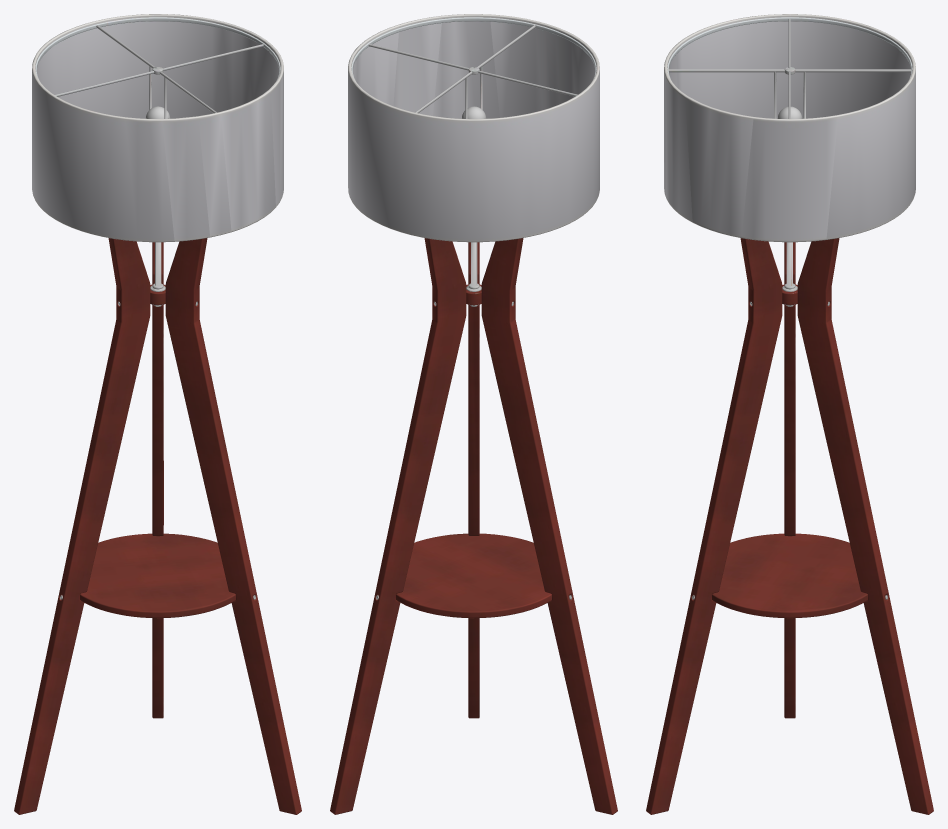
3 views of the same model, side by side, from view 1: azimuth 30°, elevation 25°; view 2: azimuth 150°, elevation 25°; view 3: azimuth 270°, elevation 25° (orthographic).
Visible parts, largest first — view 1: RootNode; view 2: RootNode; view 3: RootNode.
Part boxes in pixels (<box>): RootNode: <box>14,14,301,814</box>; RootNode: <box>330,14,617,814</box>; RootNode: <box>646,14,933,814</box>.
Bounding box in the file's own units: 0.5422 × 1.47 × 0.5392.
Materials: 1 (1 with a texture image).
